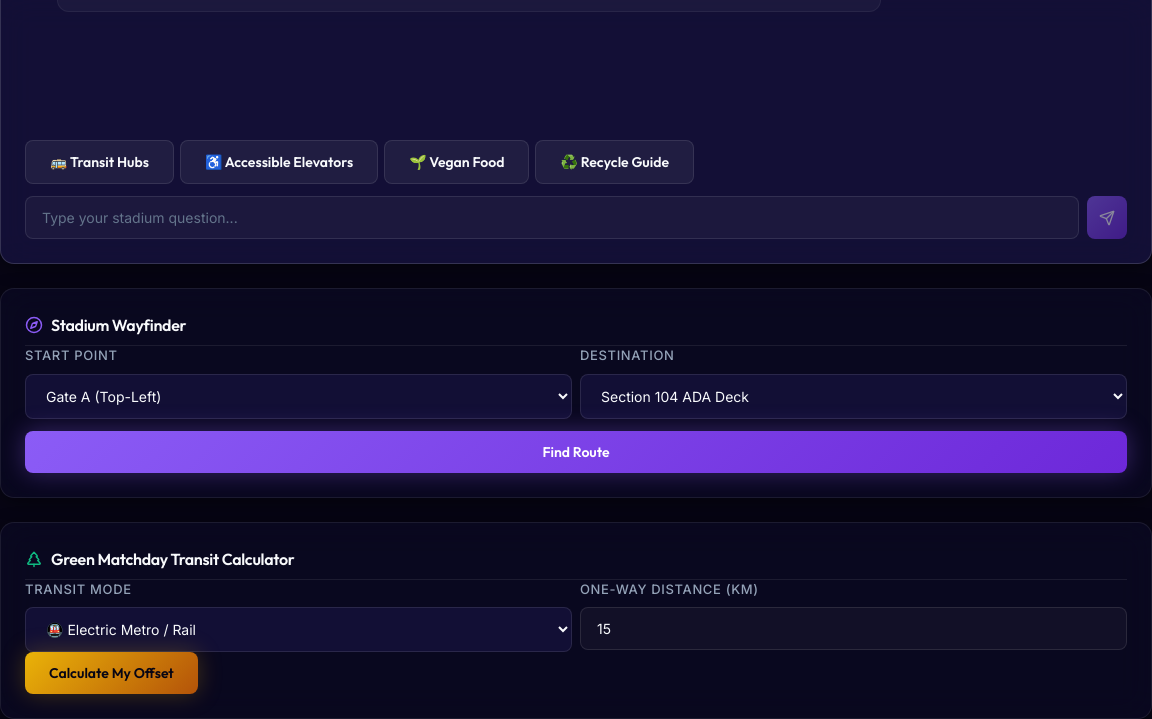
Test: Fan Companion Panel UI › calculates carbon offsets correctly for zero-emission walking transit
(page scrolled)
# Enter distance
Step 1. Replace the text in the number field labelled "One-Way Distance (km)" with "10" → (854, 628), box x1=580 y1=607 x2=1127 y2=650
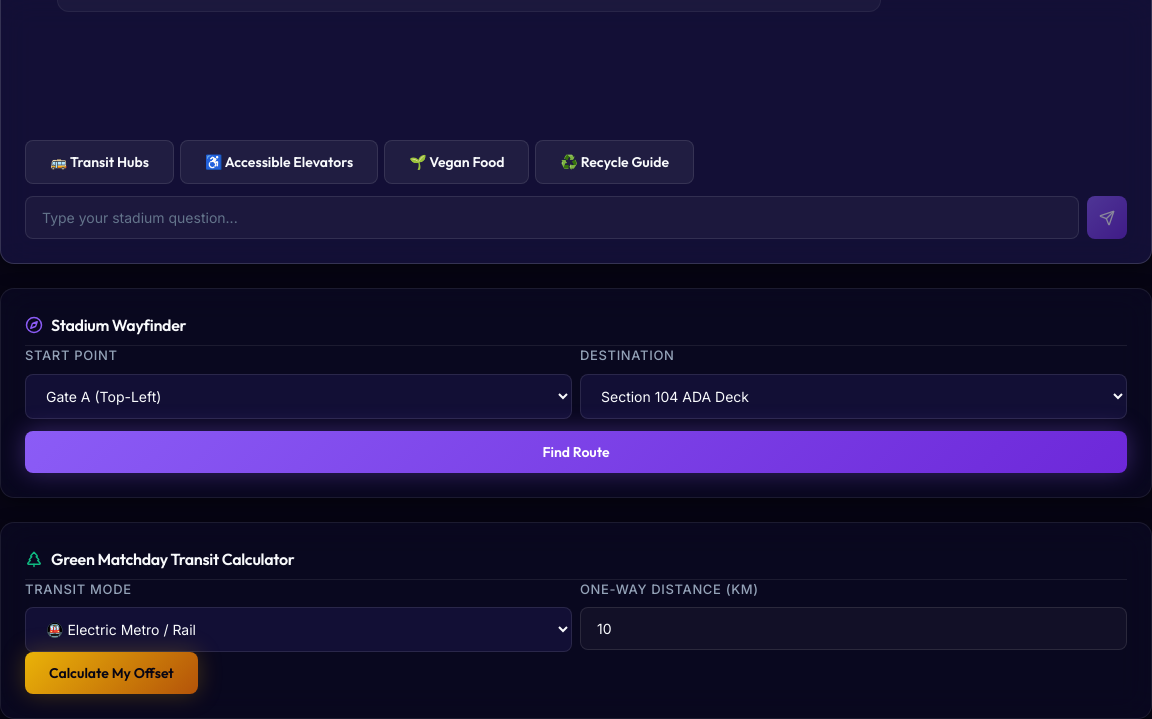
# Select Walking Mode
Step 2. Select "🏃 Walking / Cycling" in the dropdown labelled "Transit Mode" → (298, 630), box x1=25 y1=607 x2=572 y2=652
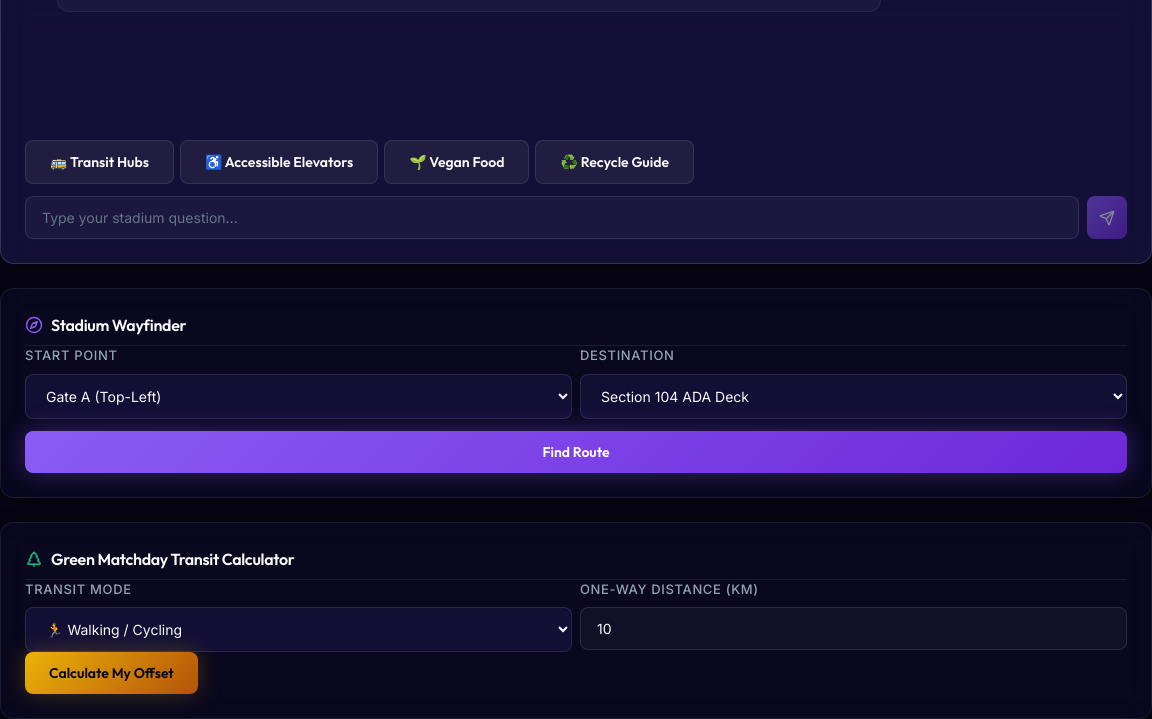
# Click Calculate
Step 3. Click the button "Calculate My Offset" → (111, 673), box x1=25 y1=652 x2=198 y2=694
(page scrolled)
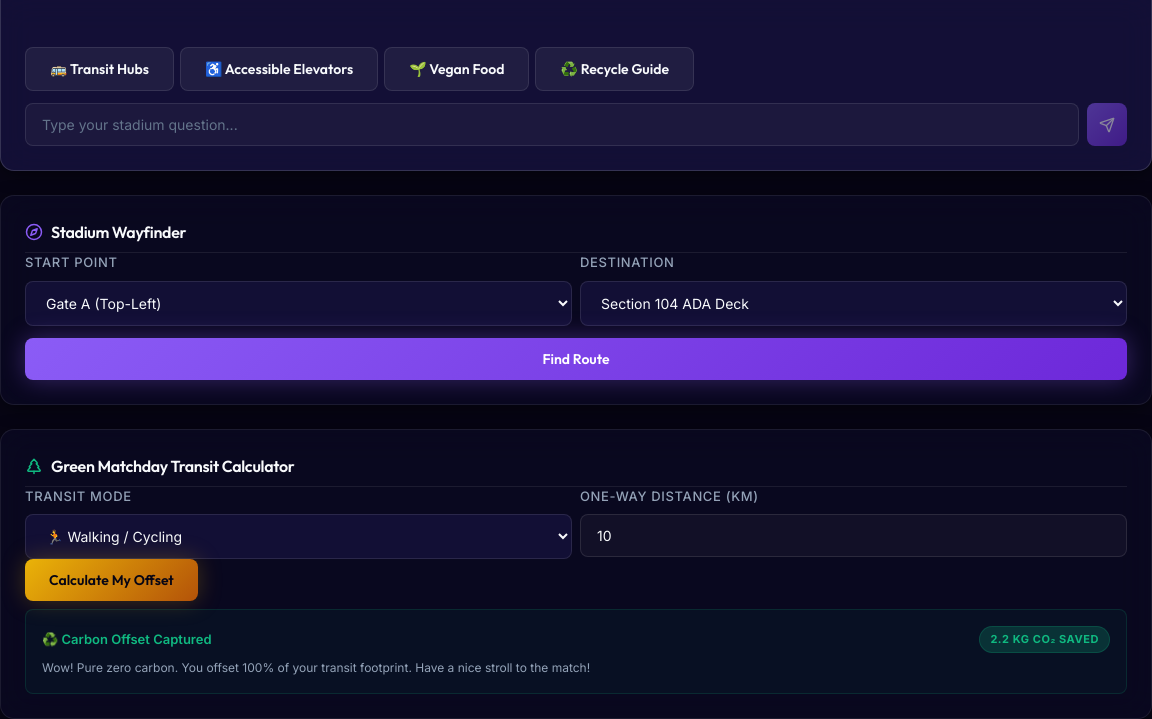
Check: the text "2.2 kg CO₂ Saved" is shown, box x1=979 y1=626 x2=1110 y2=652
Check: the text "Pure zero carbon" is shown, box x1=42 y1=660 x2=590 y2=674
